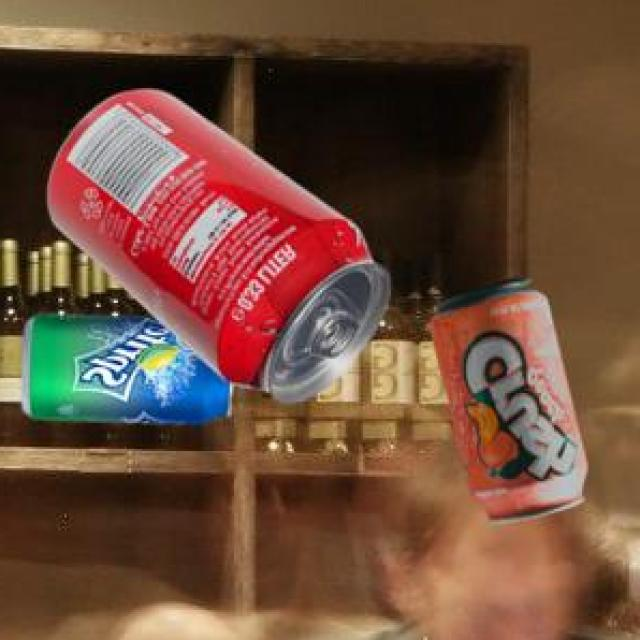logam: (50, 87, 392, 401), (433, 274, 592, 519), (25, 312, 235, 422)
